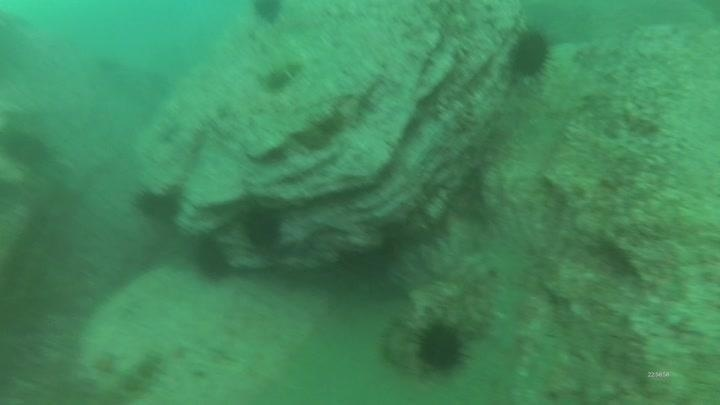echinus: (412, 319, 469, 376), (505, 26, 555, 81), (1, 126, 52, 170), (239, 204, 285, 252), (190, 234, 233, 282), (132, 185, 183, 224), (249, 1, 286, 26)
holothurian: (97, 352, 168, 405), (256, 56, 303, 94)
